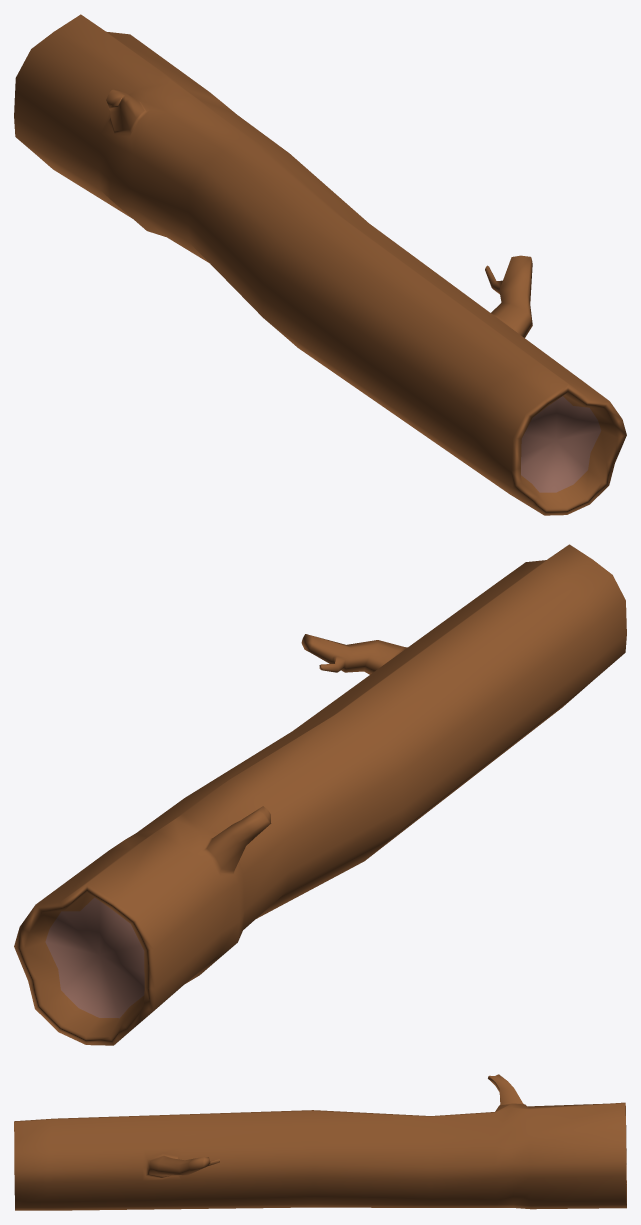
File: V1.LogDecor01.fbx
3 renders of one model, top to bottom at view 1: azimuth 30°, elevation 25°; view 2: azimuth 150°, elevation 25°; view 3: azimuth 270°, elevation 25°, orthographic. The views are drawn at different scales.
Visible parts, largest first — view 1: Cylinder; view 2: Cylinder; view 3: Cylinder.
Boxes of the visible parts, box(x1,y1,x2,y2) form: Cylinder: box(14, 14, 626, 515); Cylinder: box(14, 544, 626, 1045); Cylinder: box(14, 1074, 626, 1210).
Bounding box in the file's own units: 194 × 159 × 813.
